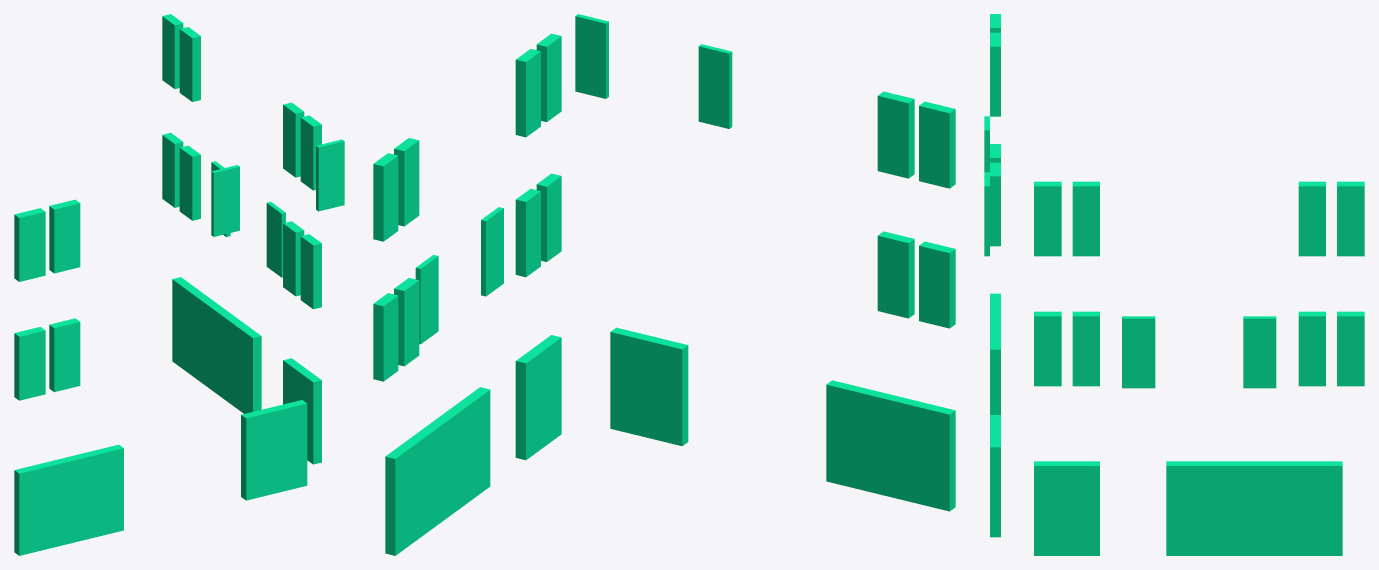
Rendered from immobiliare san marco finestre.obj.
The picture shows the model from 3 angles, left to right: view 1: azimuth 30°, elevation 25°; view 2: azimuth 150°, elevation 25°; view 3: azimuth 270°, elevation 25°; orthographic projection. The views are drawn at different scales.
Bounding box in the file's own units: 7.5 × 7.4 × 6.9.
Materials: 1 (1 with a texture image).
